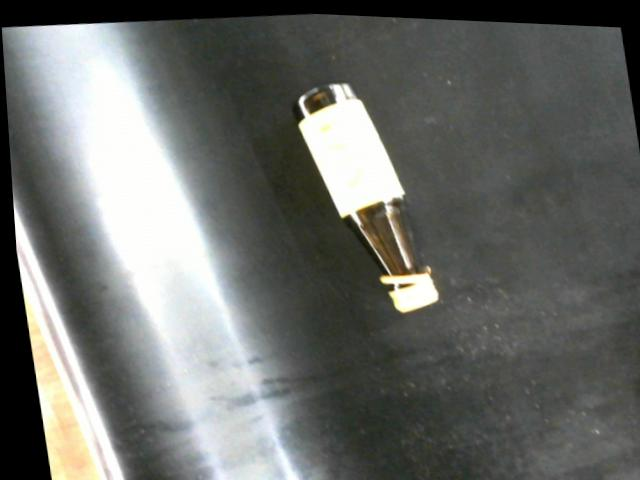glass: (284, 76, 440, 313)
